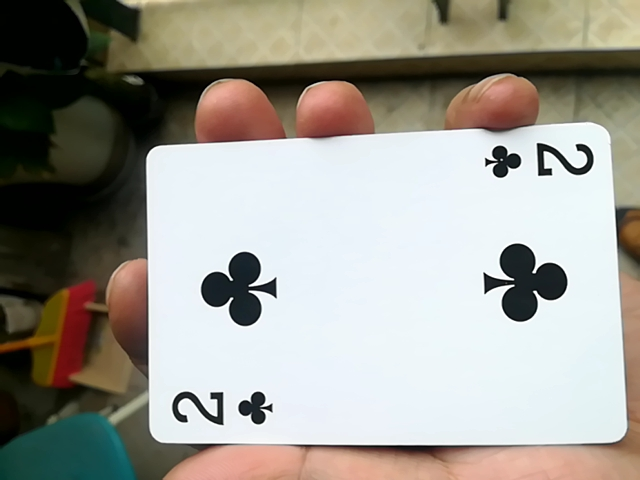mh 2: (137, 127, 615, 455)
